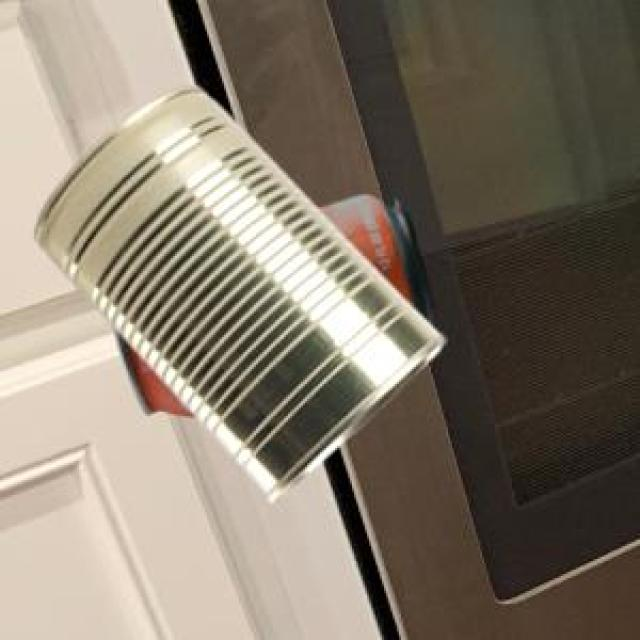logam: (33, 84, 441, 498), (223, 193, 430, 401)
